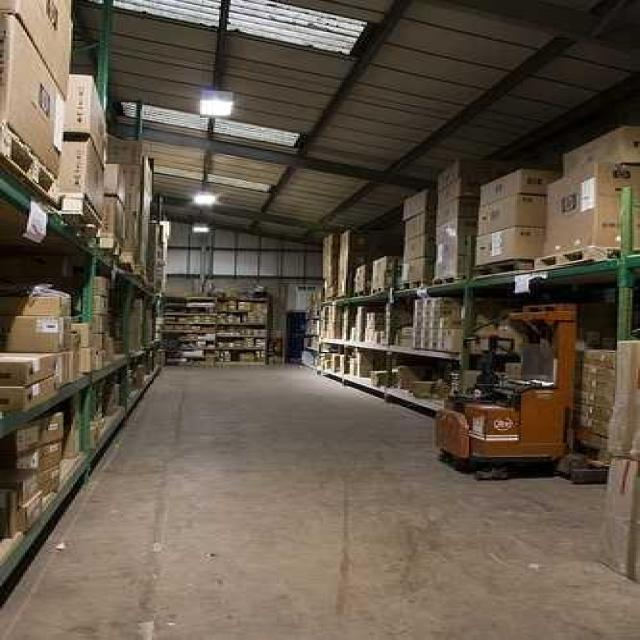forklift: (438, 296, 596, 484)
